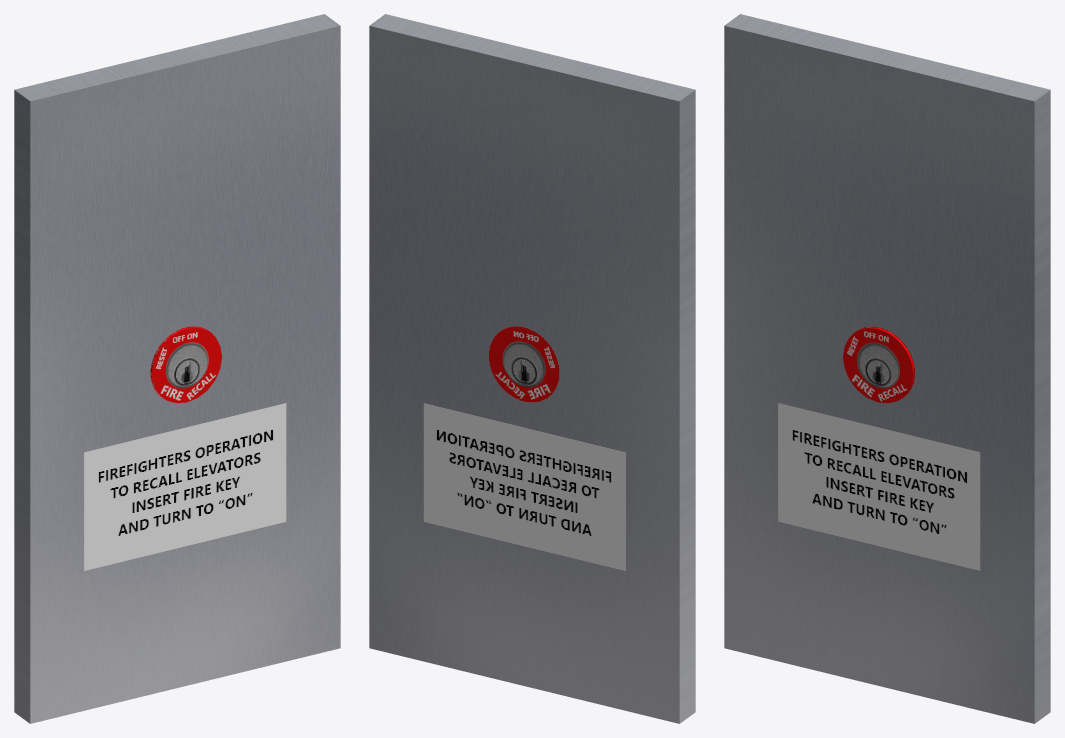
File: elevator_sign_1_FBX.fbx
3 views of the same model, side by side, from view 1: azimuth 30°, elevation 25°; view 2: azimuth 150°, elevation 25°; view 3: azimuth 330°, elevation 25° (orthographic).
Parts seen in each view (by area): view 1: pCube1, pCylinder1; view 2: pCube1; view 3: pCube1, pCylinder1.
Boxes of the visible parts, bbox=[...] form: pCube1: bbox=[14, 14, 340, 723]; pCylinder1: bbox=[150, 327, 221, 403]; pCube1: bbox=[369, 14, 695, 723]; pCube1: bbox=[724, 14, 1050, 723]; pCylinder1: bbox=[843, 327, 914, 403].
Size of the model in its own units: 8.82 by 16.9 by 0.8577.
1 material, 1 textured.
